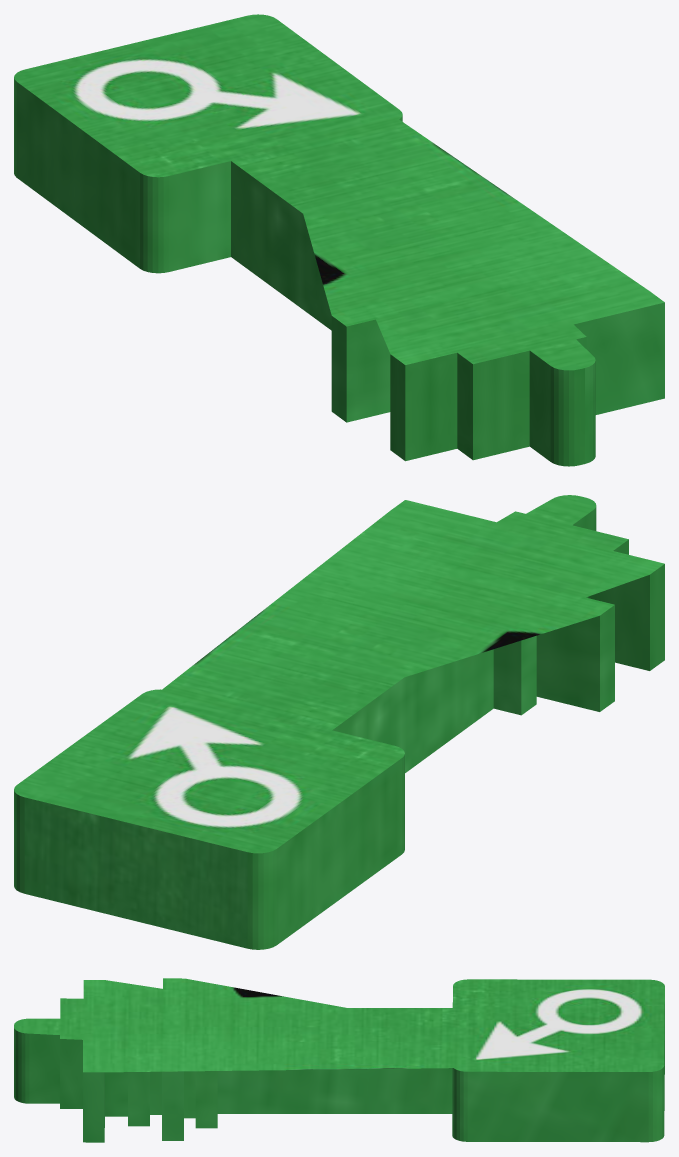
File: Key3.fbx
3 views of the same model, one above another, from view 1: azimuth 30°, elevation 25°; view 2: azimuth 150°, elevation 25°; view 3: azimuth 270°, elevation 25° (orthographic). The views are drawn at different scales.
Parts seen in each view (by area): view 1: Key3; view 2: Key3; view 3: Key3.
Boxes of the visible parts, box(x1,y1,x2,y2) form: Key3: box(14, 14, 664, 466); Key3: box(14, 495, 664, 949); Key3: box(14, 978, 664, 1142).
Size of the model in its own units: 2.87 by 1 by 8.41.
1 material, 1 textured.
